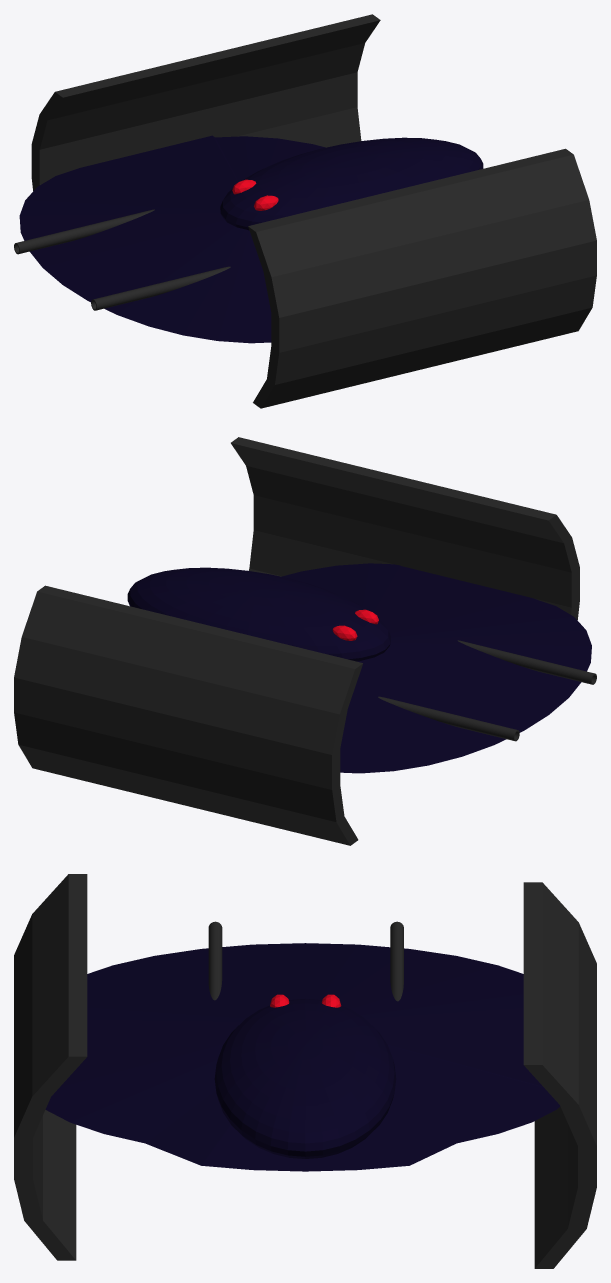
File: EnemyFighter.fbx
3 renders of one model, top to bottom at view 1: azimuth 30°, elevation 25°; view 2: azimuth 150°, elevation 25°; view 3: azimuth 270°, elevation 25°, orthographic. The views are drawn at different scales.
Parts seen in each view (by area): view 1: WingL, Body, WingR, Cockpit, GunL, GunR; view 2: WingR, Body, WingL, Cockpit, GunR, GunL; view 3: Body, WingR, Cockpit, WingL, GunL, GunR.
Part boxes in pixels (left/top/right/bottom): WingL: left=248, top=148, right=596, bottom=408; Body: left=19, top=135, right=325, bottom=343; WingR: left=31, top=14, right=380, bottom=191; Cockpit: left=220, top=137, right=483, bottom=230; GunL: left=91, top=266, right=230, bottom=310; GunR: left=14, top=209, right=154, bottom=254; WingR: left=14, top=585, right=362, bottom=845; Body: left=282, top=563, right=591, bottom=773; WingL: left=231, top=437, right=579, bottom=619; Cockpit: left=127, top=567, right=390, bottom=661; GunR: left=378, top=696, right=519, bottom=741; GunL: left=457, top=640, right=596, bottom=684; Body: left=45, top=943, right=560, bottom=1171; WingR: left=523, top=882, right=596, bottom=1268; Cockpit: left=214, top=998, right=396, bottom=1158; WingL: left=14, top=874, right=87, bottom=1260; GunL: left=208, top=921, right=222, bottom=1000; GunR: left=390, top=921, right=403, bottom=1001.
Size of the model in its own units: 633 by 258 by 642.
